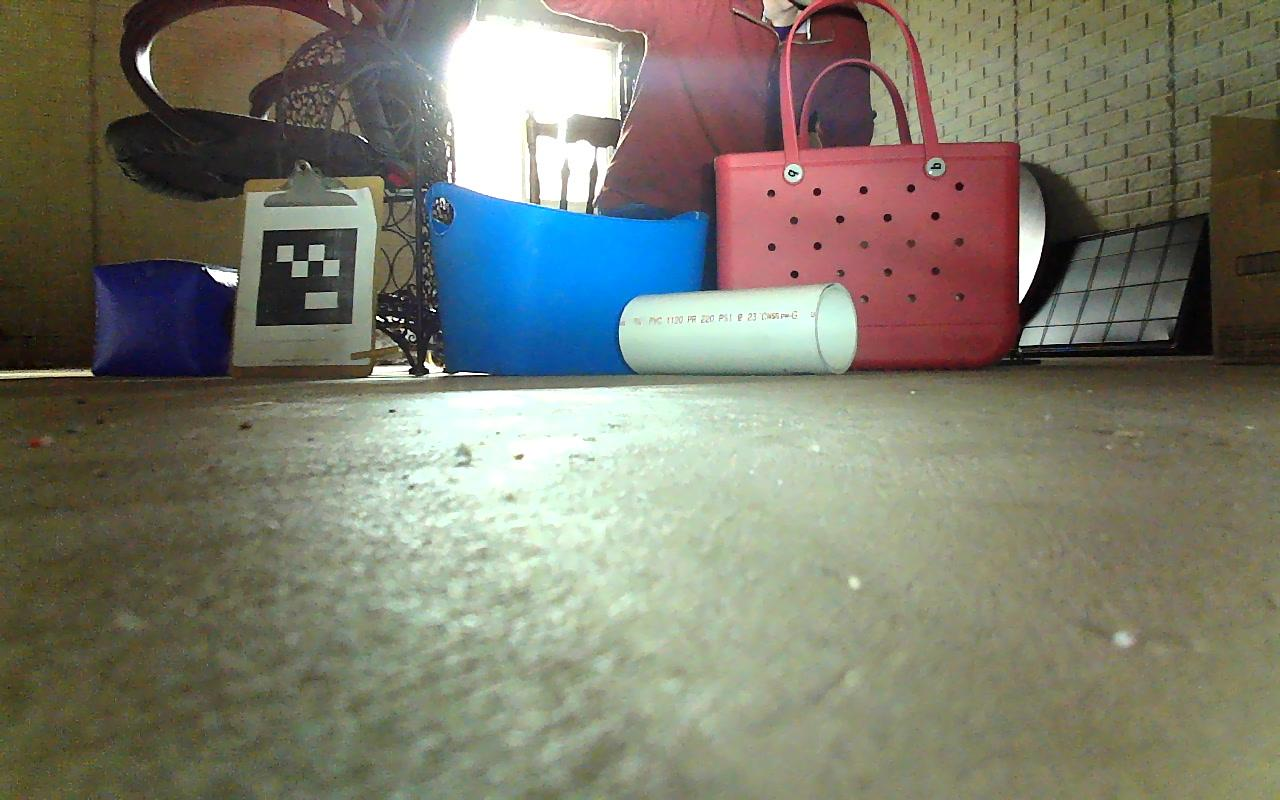coral: (618, 282, 856, 375)
